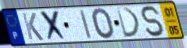D: (115, 7, 142, 39)
I: (79, 8, 94, 41)
K: (21, 12, 45, 42)
O: (91, 7, 116, 41)
S: (139, 5, 167, 39)
X: (39, 9, 69, 43)
